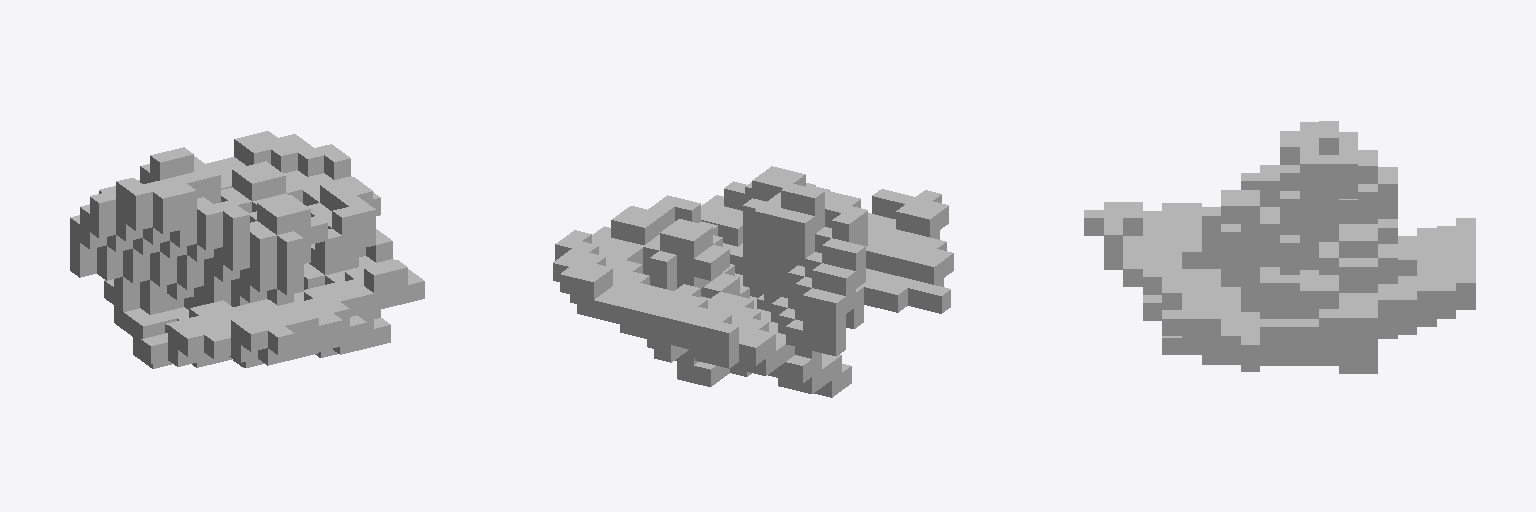
The model's file is plant 2.obj.
3 views of the same model, side by side, from view 1: azimuth 30°, elevation 25°; view 2: azimuth 150°, elevation 25°; view 3: azimuth 270°, elevation 25° (orthographic).
Visible parts, largest first — view 1: object 1; view 2: object 1; view 3: object 1.
Part boxes in pixels (bbox=[...]): object 1: bbox=[70, 131, 424, 368]; object 1: bbox=[553, 166, 953, 397]; object 1: bbox=[1084, 121, 1475, 373].
Size of the model in its own units: 1.7 by 1.1 by 2.